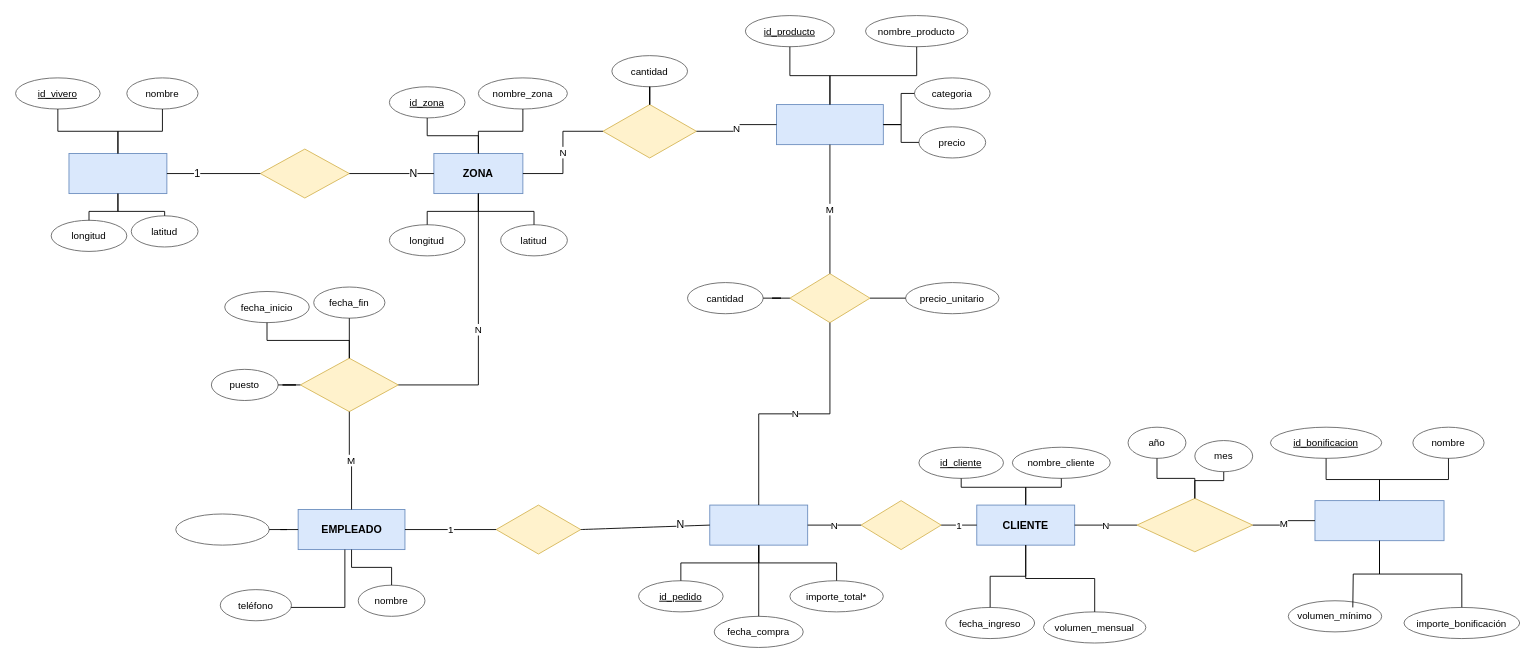
This 1535x663 diagram has some shape labels left out. Each missing label, with the centre of its shape:
"ASIGNACIÓN" goes at (348,384).
"BONIFICACIÓN" goes at (1379,520).
"contiene" goes at (304,173).
"DISPONE DE" goes at (649,131).
"GESTIONA" goes at (538,529).
"id_empleado" goes at (222,529).
"INCLUYE" goes at (829,298).
"PEDIDO" goes at (758,524).
"PRODUCTO" goes at (829,124).
"REALIZA" goes at (900,525).
"RECIBE / SE ASIGNA" goes at (1194,525).
"VIVERO" goes at (117,173).
